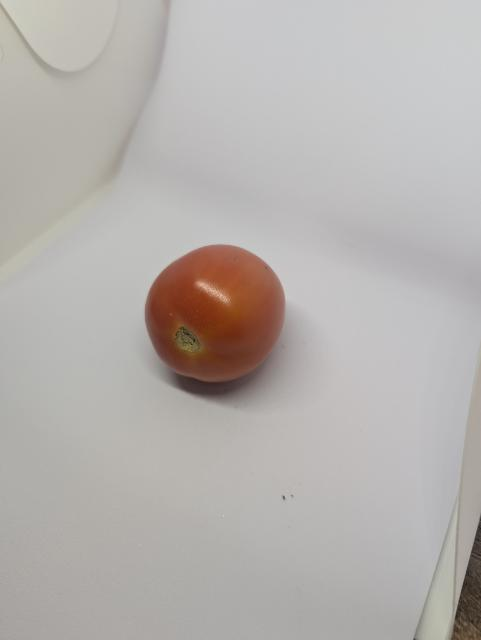red: (128, 240, 310, 391)
